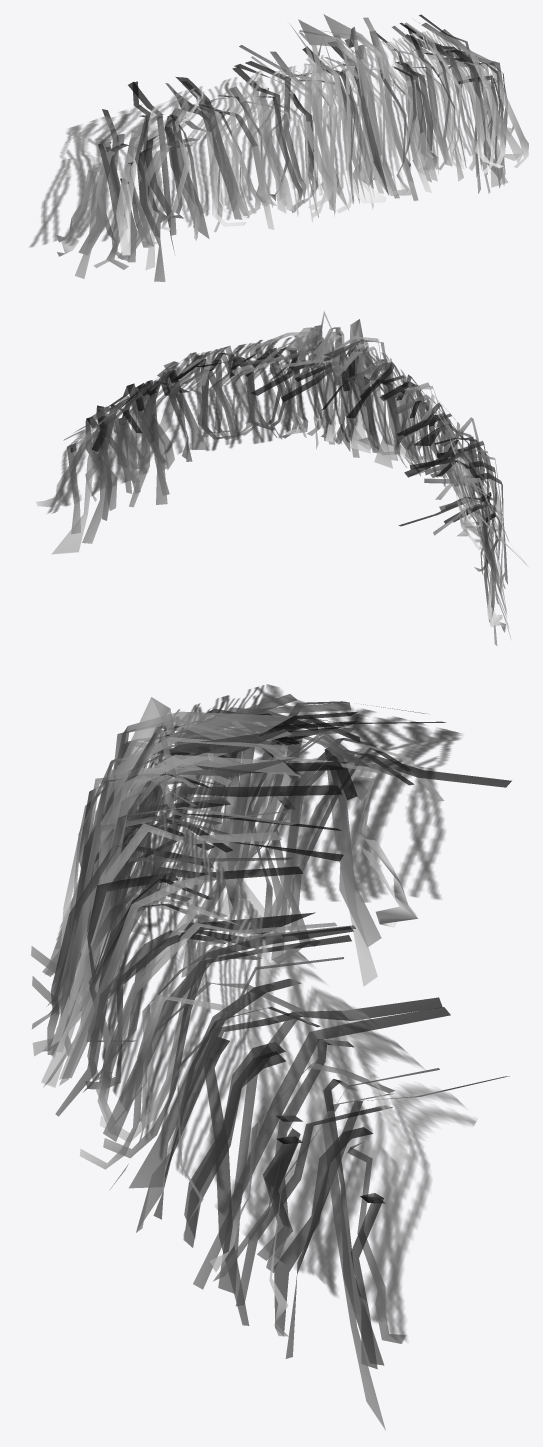
File: facial_moustache.gltf
The picture shows the model from 3 angles, top to bottom: view 1: azimuth 30°, elevation 25°; view 2: azimuth 150°, elevation 25°; view 3: azimuth 270°, elevation 25°; orthographic projection. The views are drawn at different scales.
Visible parts, largest first — view 1: facial_moustache; view 2: facial_moustache; view 3: facial_moustache.
Boxes of the visible parts, box(x1,y1,x2,y2) form: facial_moustache: box(29, 14, 528, 281); facial_moustache: box(36, 310, 527, 645); facial_moustache: box(31, 684, 511, 1430).
Bounding box in the file's own units: 0.0643 × 0.0312 × 0.0272.
Materials: 1 (1 with a texture image).
